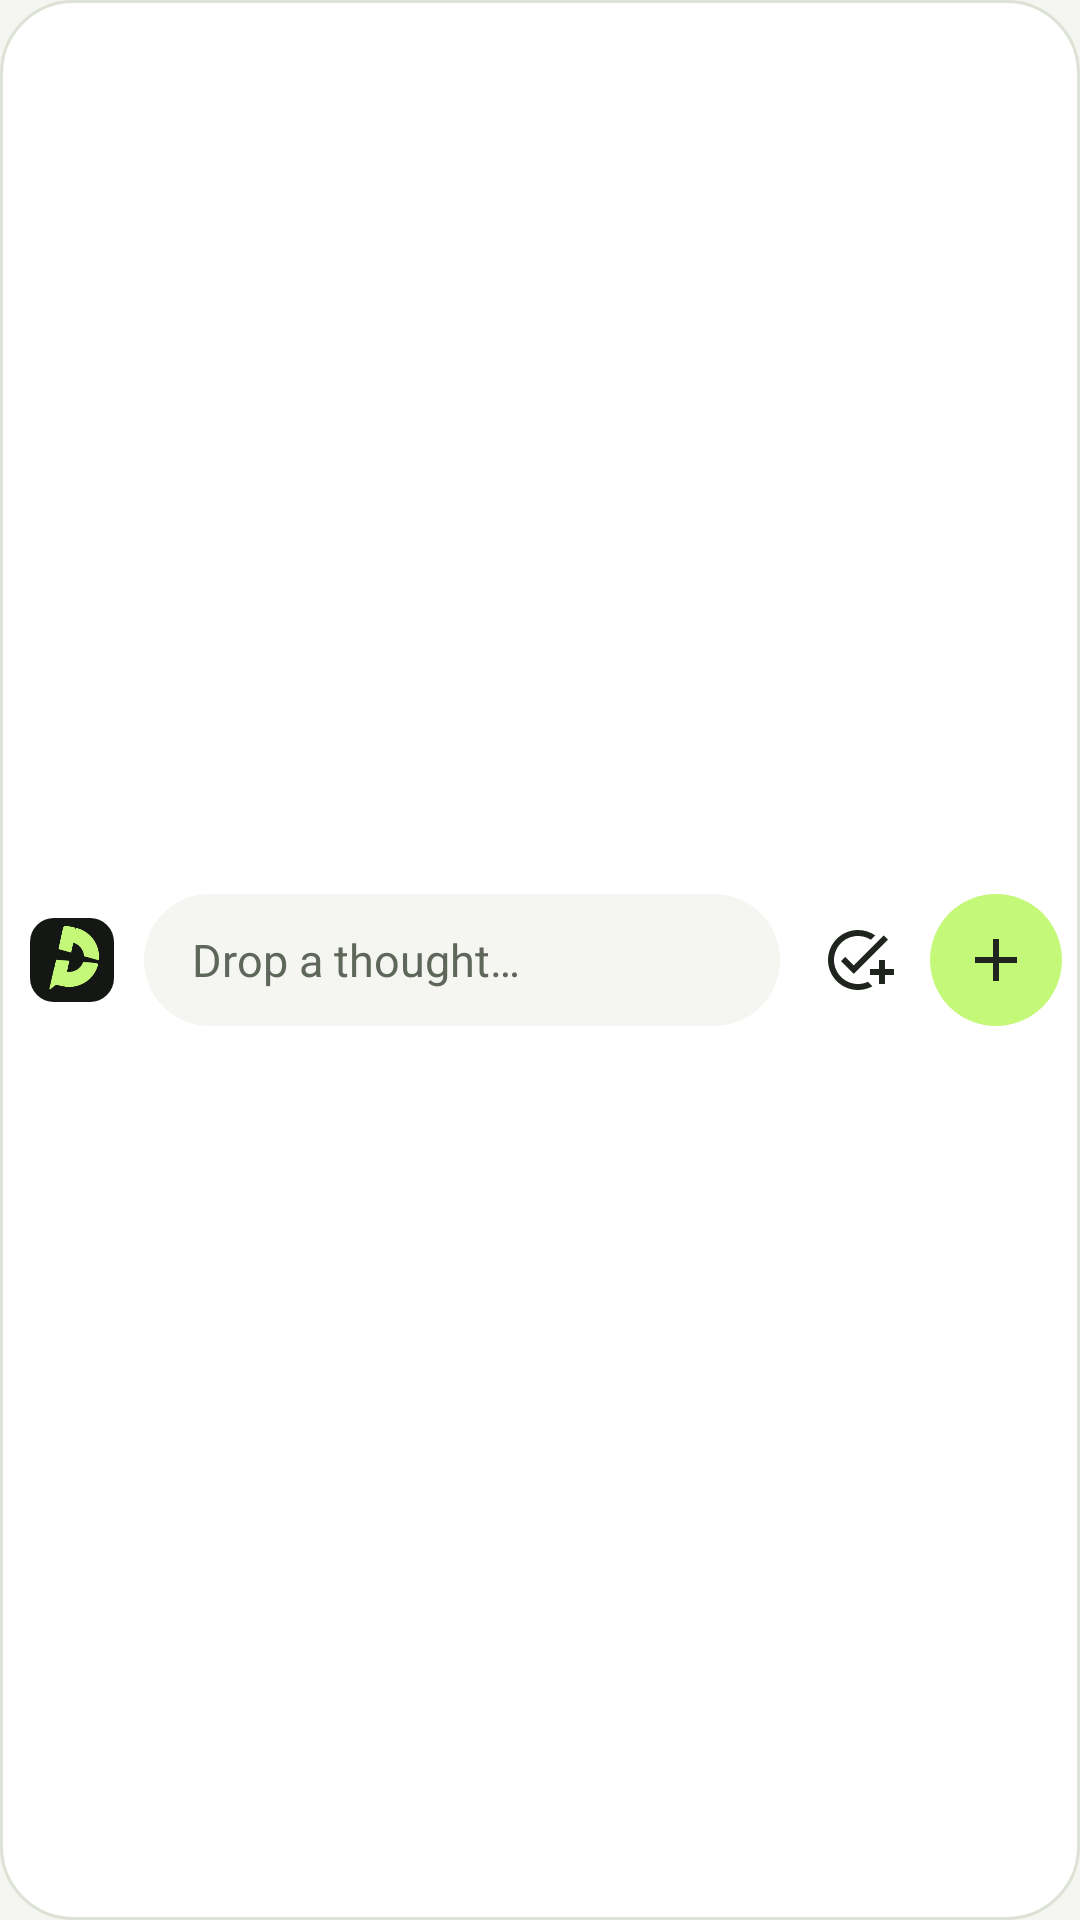

Icons on this 1080x1920 Android screen, each with its box as (x1, y1, x2, y2):
widget add: (930, 894, 1062, 1026)
widget add task: (828, 930, 894, 990)
